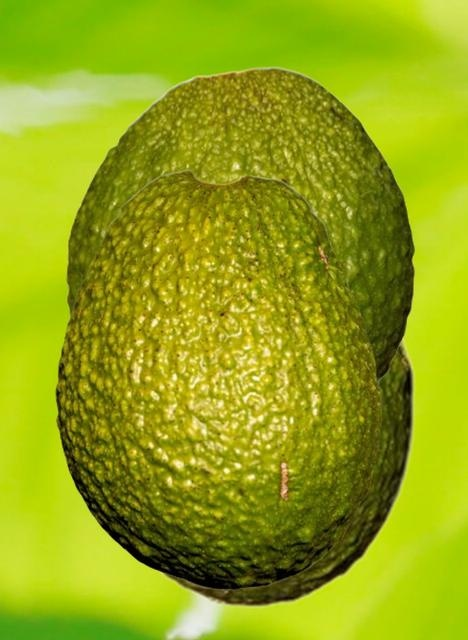avocado: (55, 169, 380, 589), (65, 66, 414, 384), (143, 333, 415, 608)
